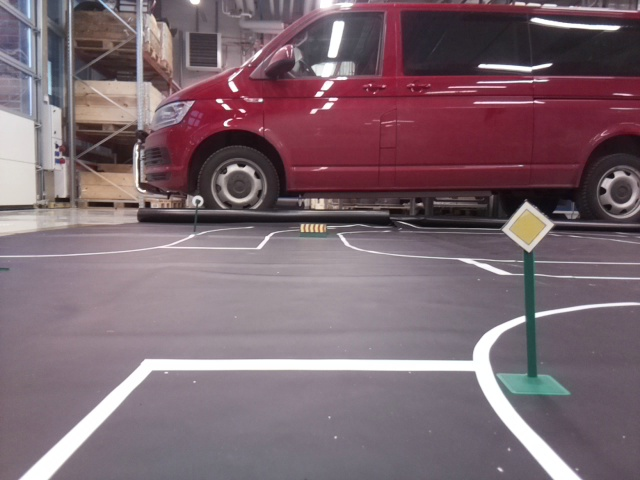Priority: (502, 201, 549, 245)
